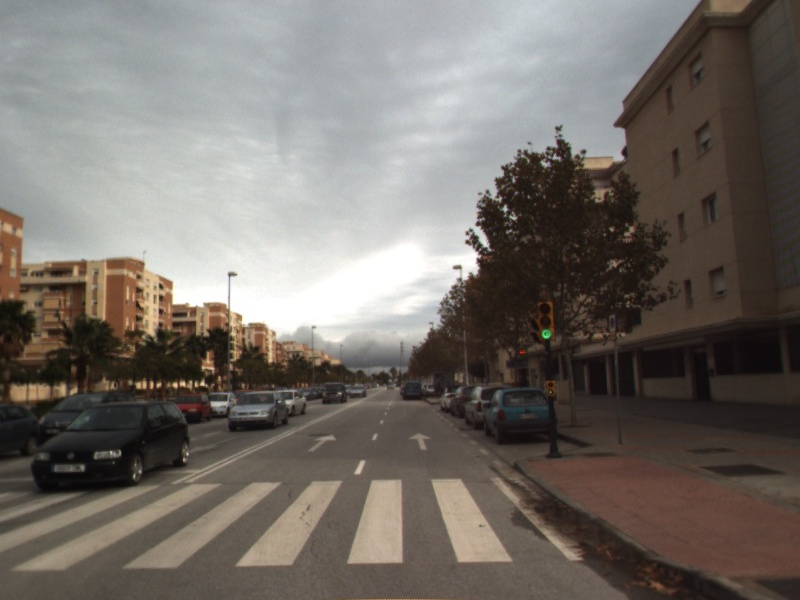STRAIGHT: (305, 432, 338, 454), (407, 431, 433, 452)
